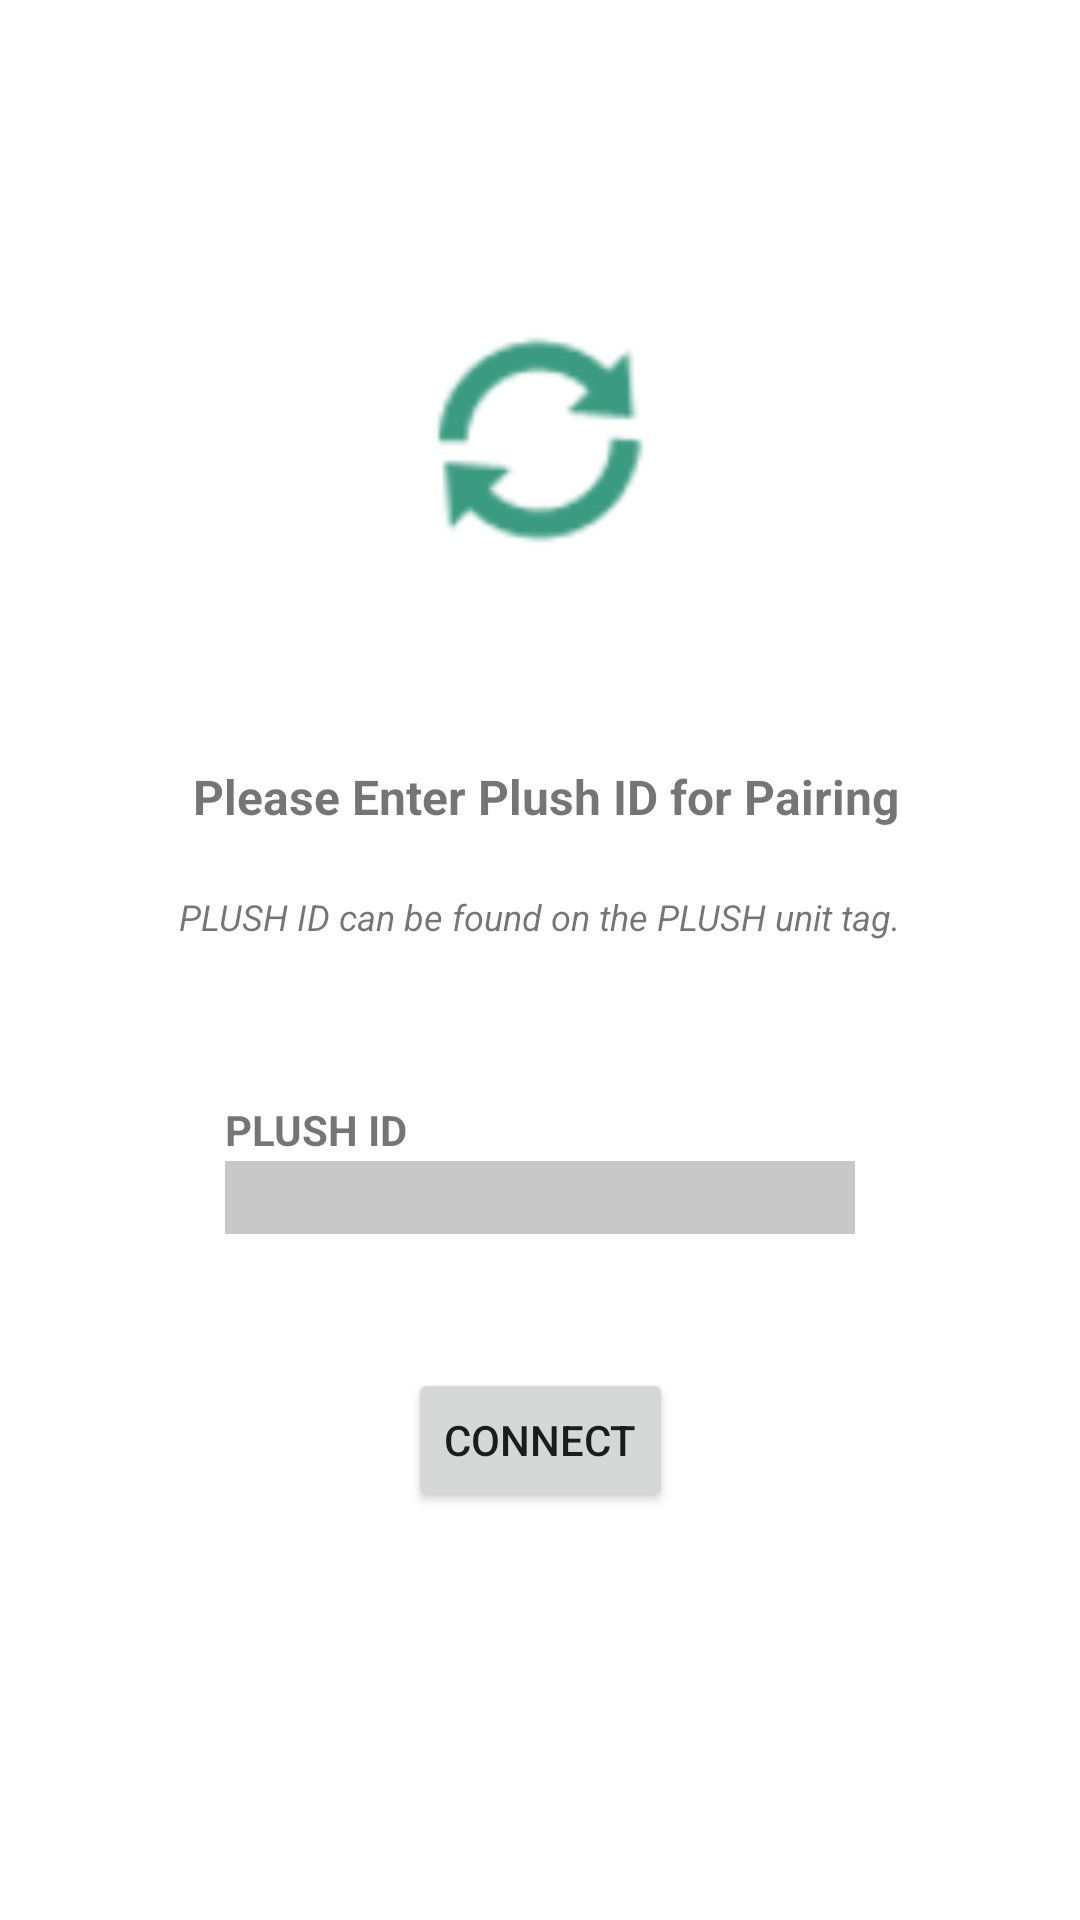

Screen size 1080px×1920px. Icon name, then its box in pixels as (x1, y1, x2, y2):
popup sync: (437, 338, 643, 542)
